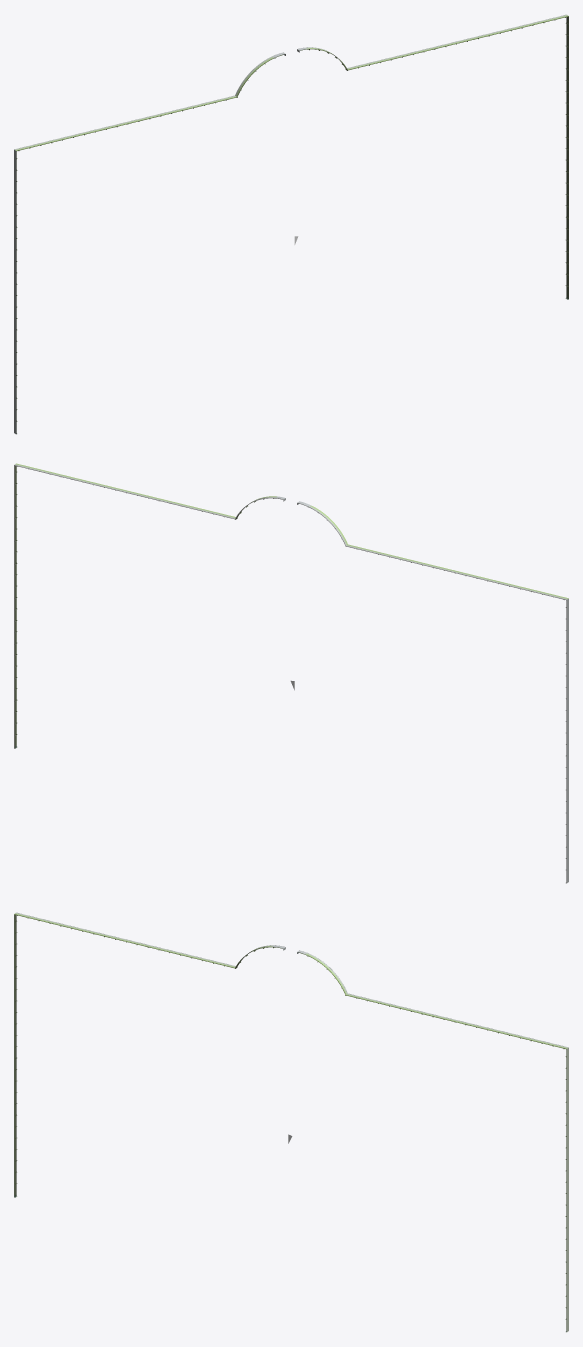
File: SM_000318_merge_wall01.fbx
3 views of the same model, one above another, from view 1: azimuth 30°, elevation 25°; view 2: azimuth 150°, elevation 25°; view 3: azimuth 330°, elevation 25° (orthographic).
Visible parts, largest first — view 1: SM_000318.001; view 2: SM_000318.001; view 3: SM_000318.001.
Boxes of the visible parts, bbox=[...] form: SM_000318.001: bbox=[14, 14, 568, 434]; SM_000318.001: bbox=[14, 463, 568, 883]; SM_000318.001: bbox=[14, 912, 568, 1332].
Size of the model in its own units: 330 by 179 by 4.2.
